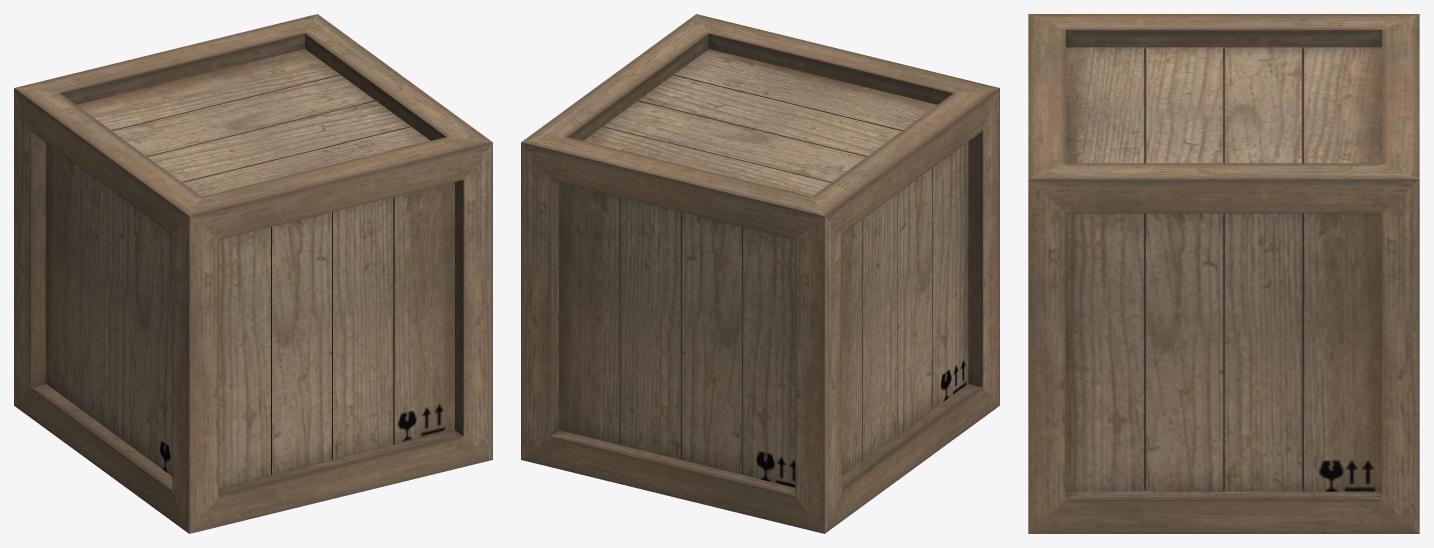
File: wooden_boox.glb
3 views of the same model, side by side, from view 1: azimuth 30°, elevation 25°; view 2: azimuth 150°, elevation 25°; view 3: azimuth 270°, elevation 25° (orthographic). The views are drawn at different scales.
Parts seen in each view (by area): view 1: Cube.001; view 2: Cube.001; view 3: Cube.001.
Boxes of the visible parts, <box> form: Cube.001: <box>14,14,492,533</box>; Cube.001: <box>521,14,999,533</box>; Cube.001: <box>1028,14,1419,533</box>.
Bounding box in the file's own units: 200 × 200 × 200.
1 material, 1 textured.
